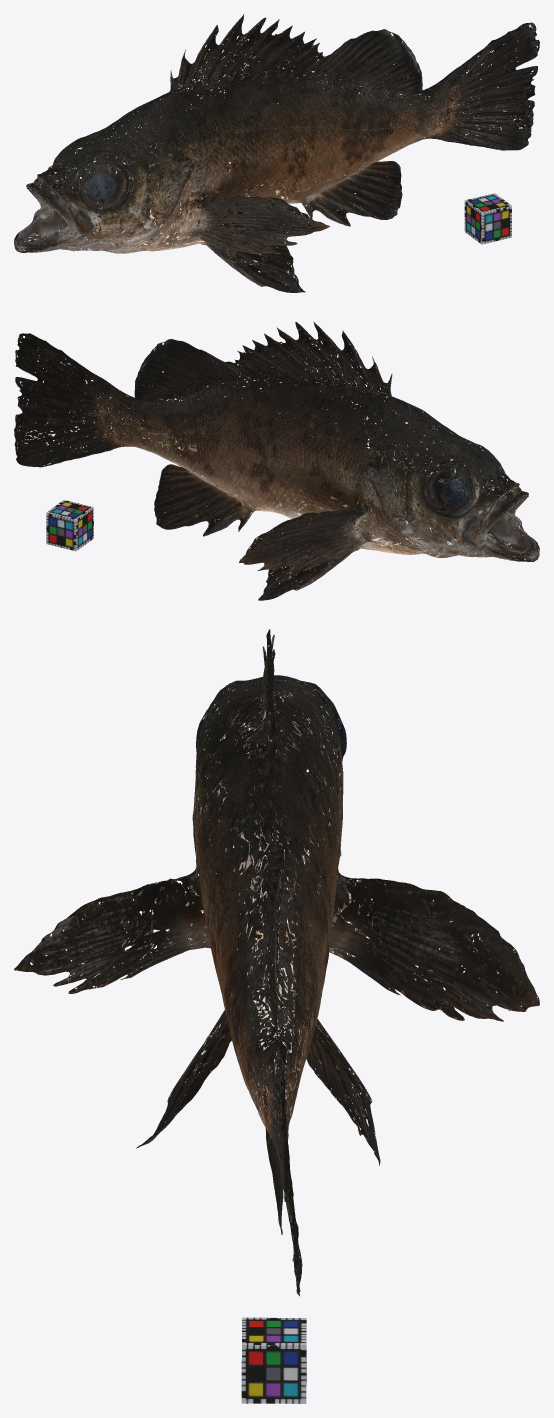
The model's file is scan_rock_blueback.glb.
The picture shows the model from 3 angles, top to bottom: view 1: azimuth 30°, elevation 25°; view 2: azimuth 150°, elevation 25°; view 3: azimuth 270°, elevation 25°; orthographic projection. The views are drawn at different scales.
Visible parts, largest first — view 1: Object_6, Object_12, Object_4; view 2: Object_6, Object_12, Object_4; view 3: Object_6, Object_12, Object_4.
Part boxes in pixels (left/top/right/bottom): Object_6: left=14, top=14, right=539, bottom=292; Object_12: left=14, top=14, right=539, bottom=292; Object_4: left=464, top=193, right=511, bottom=244; Object_6: left=14, top=322, right=539, bottom=600; Object_12: left=14, top=321, right=539, bottom=600; Object_4: left=46, top=500, right=93, bottom=551; Object_6: left=14, top=629, right=539, bottom=1295; Object_12: left=15, top=629, right=539, bottom=1286; Object_4: left=241, top=1317, right=306, bottom=1403.
Bounding box in the file's own units: 8.81 × 4.5 × 4.13.
3 materials, 3 textured.
